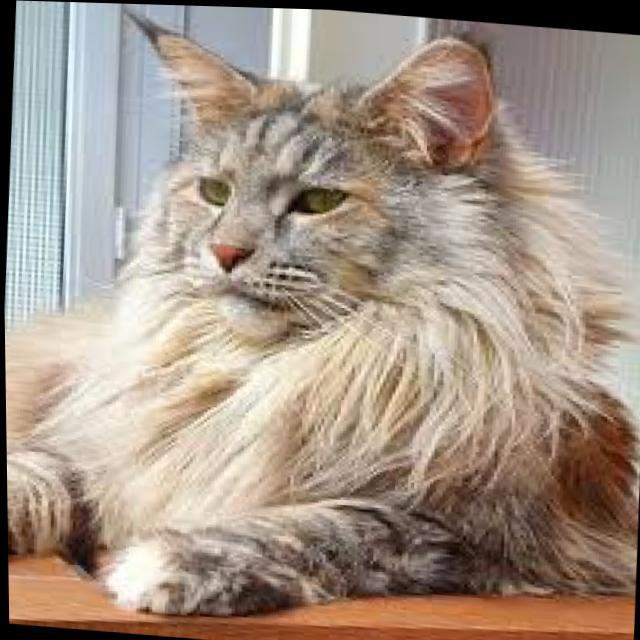cat: (6, 0, 594, 567)
